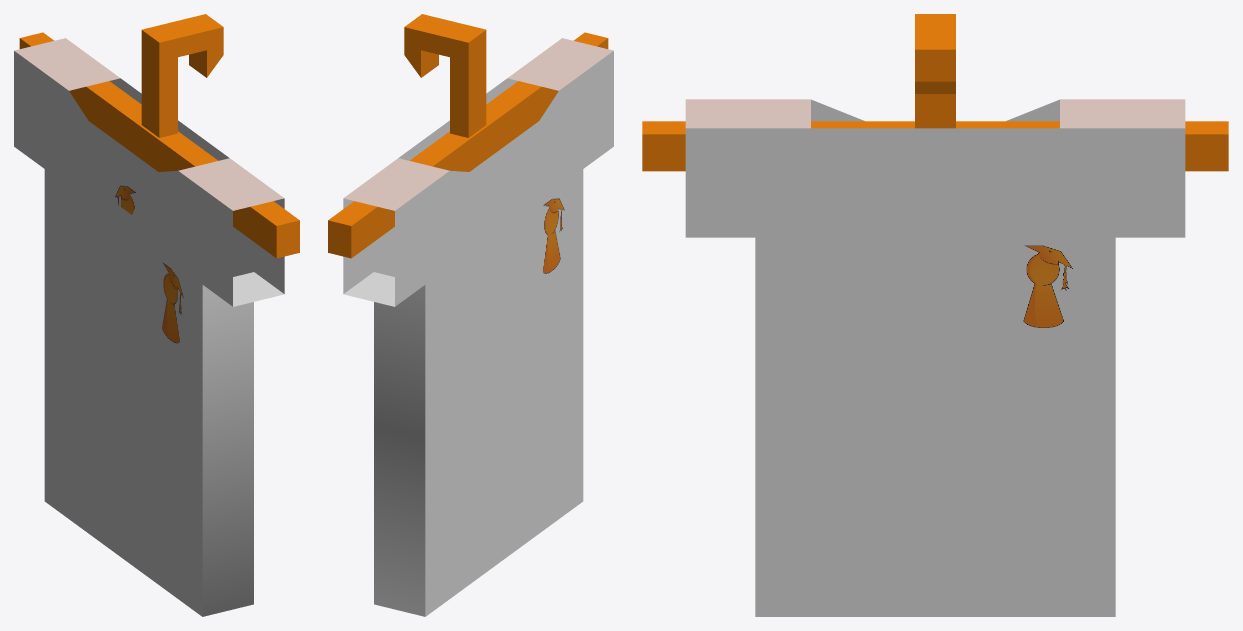
The model's file is Shirt.FBX.
3 views of the same model, side by side, from view 1: azimuth 30°, elevation 25°; view 2: azimuth 150°, elevation 25°; view 3: azimuth 270°, elevation 25° (orthographic). The views are drawn at different scales.
Parts seen in each view (by area): view 1: Box004; view 2: Box004; view 3: Box004.
Part boxes in pixels (left/top/right/bottom): Box004: left=14, top=14, right=299, bottom=616; Box004: left=328, top=14, right=613, bottom=616; Box004: left=642, top=14, right=1228, bottom=616.
Bounding box in the file's own units: 1.92 × 9.38 × 10.41.
Materials: 1 (1 with a texture image).
